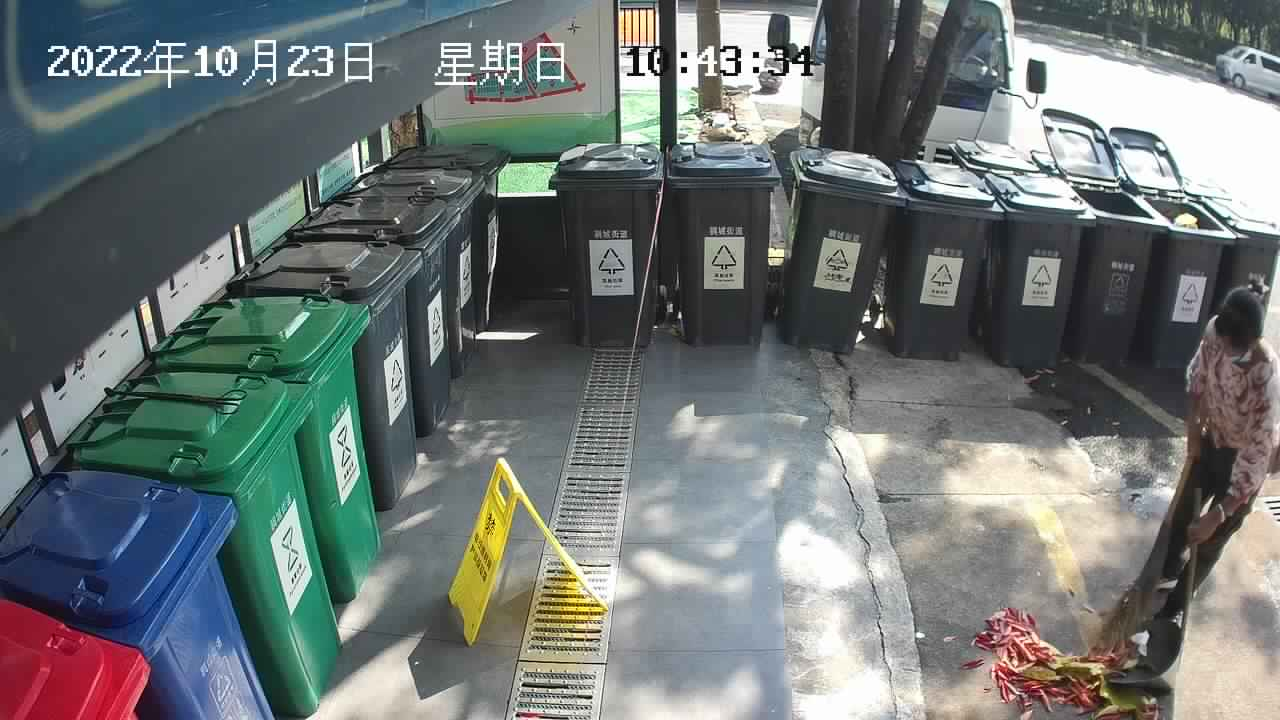person: (1136, 272, 1280, 649)
